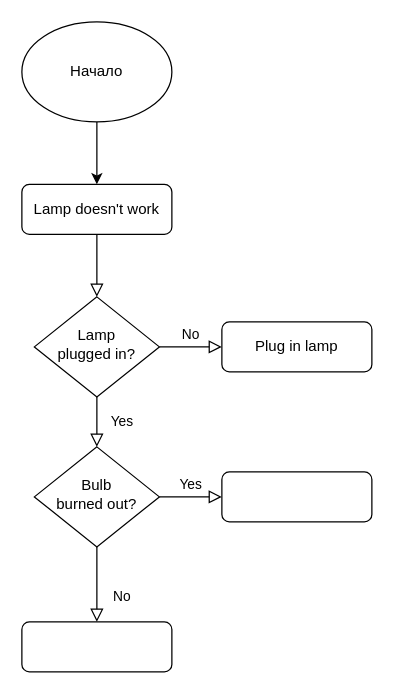
Some shapes in this 394 by 694 pixel diagram are drawn without their labels. The shapes that lost their labels are listed below. From the top down, each one's centre as x and y in pixels, then its label:
At (296,496): "Replace Bulb".
At (96,646): "Repair Lamp".
